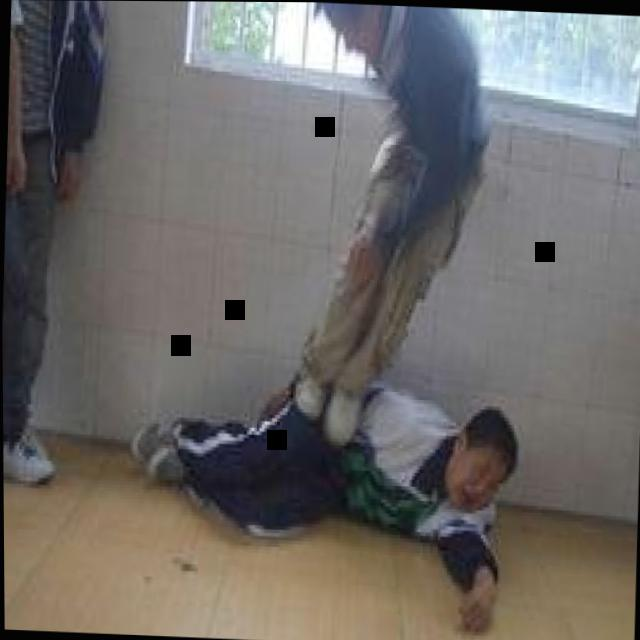Fall-Detected: (120, 338, 532, 629)
